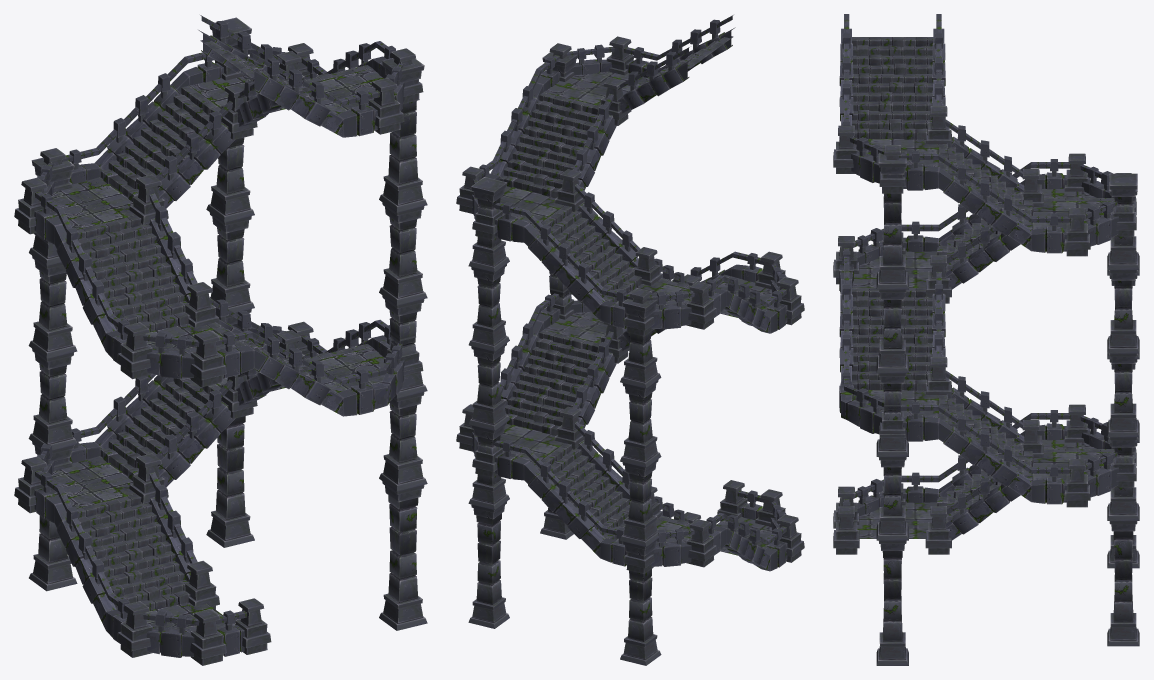
Rendered from Stairs.gltf.
3 views of the same model, side by side, from view 1: azimuth 30°, elevation 25°; view 2: azimuth 150°, elevation 25°; view 3: azimuth 270°, elevation 25° (orthographic). The views are drawn at different scales.
Visible parts, largest first — view 1: P_MOD_Railing_01_column (10); view 2: P_MOD_Railing_01_column (10); view 3: P_MOD_Railing_01_column (10).
Boxes of the visible parts, x1,y1,x2,y2 form: P_MOD_Railing_01_column (10): [14, 15, 427, 665]; P_MOD_Railing_01_column (10): [456, 15, 804, 665]; P_MOD_Railing_01_column (10): [833, 14, 1139, 665].
Size of the model in its own units: 13.27 by 27.12 by 13.27.
2 materials, 2 textured.
